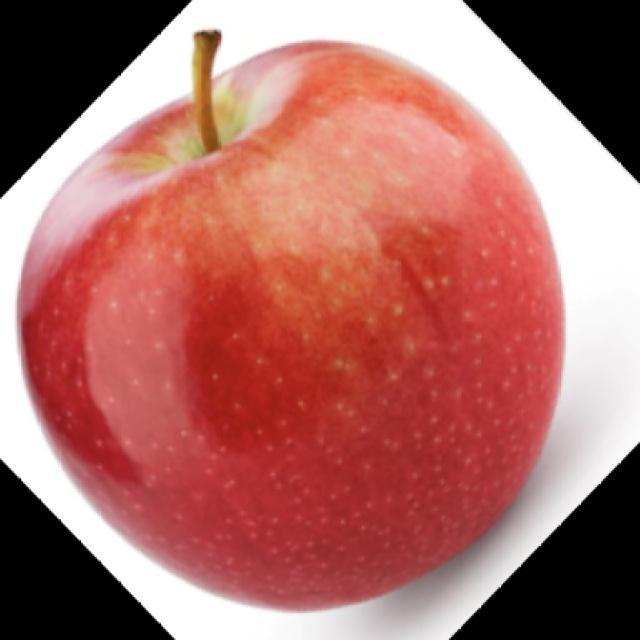Apple: (16, 27, 566, 613)
